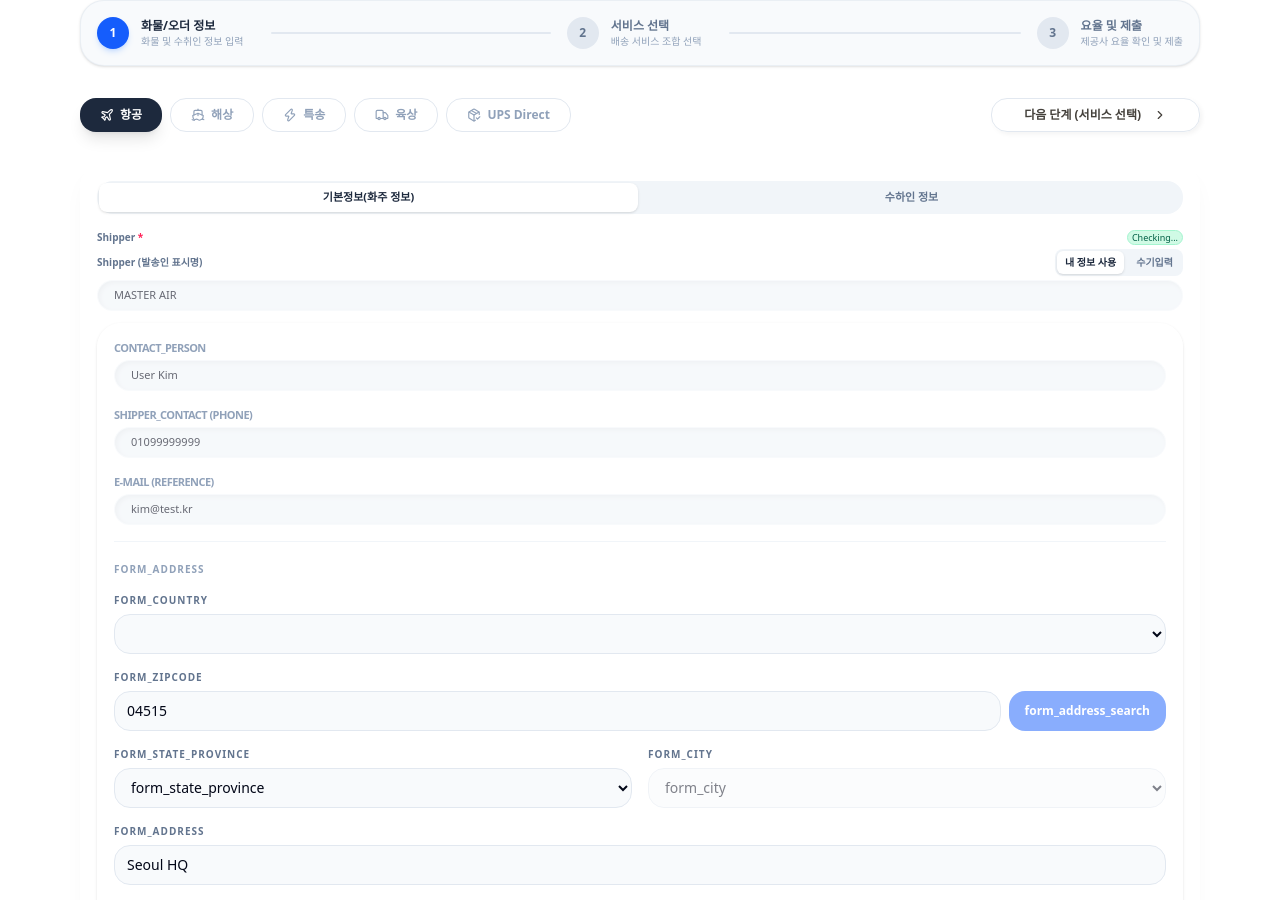
it: TASK-B-296: 화주 정보 UI 단순화 (Issue #1102) › TC-296-03: "내 정보 사용" 재전환 → affiliation 파생값 전체 복원 + 비활성화
Expected: the field named "shipper_name" below "(발송인 표시명)" is shown, left=97, top=280, right=1183, bottom=310
Click the button "수기입력" at (1155, 262), box left=1128, top=251, right=1181, bottom=274
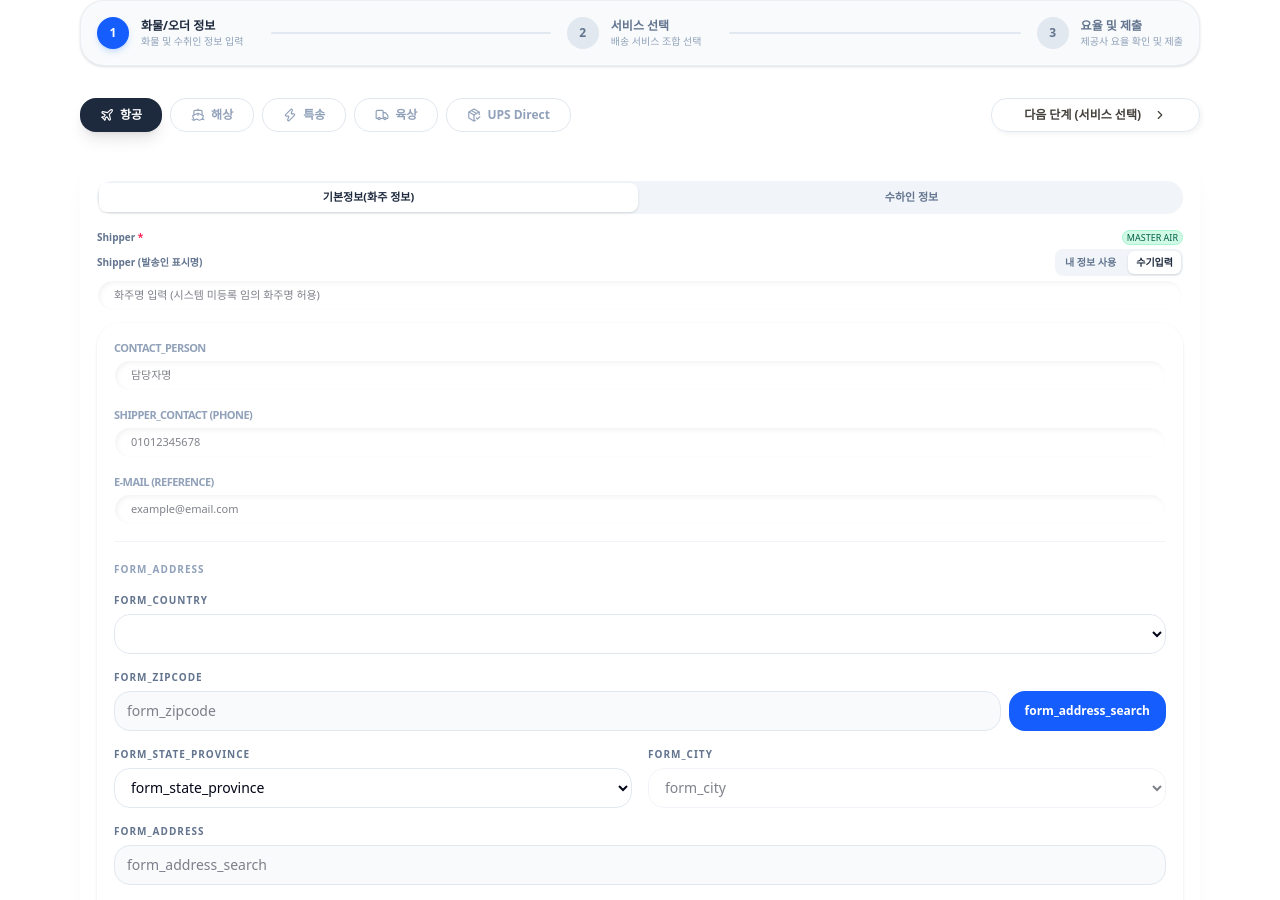
Type "Custom Shipper XYZ" into the field named "shipper_name" at (640, 295), box left=97, top=280, right=1183, bottom=310
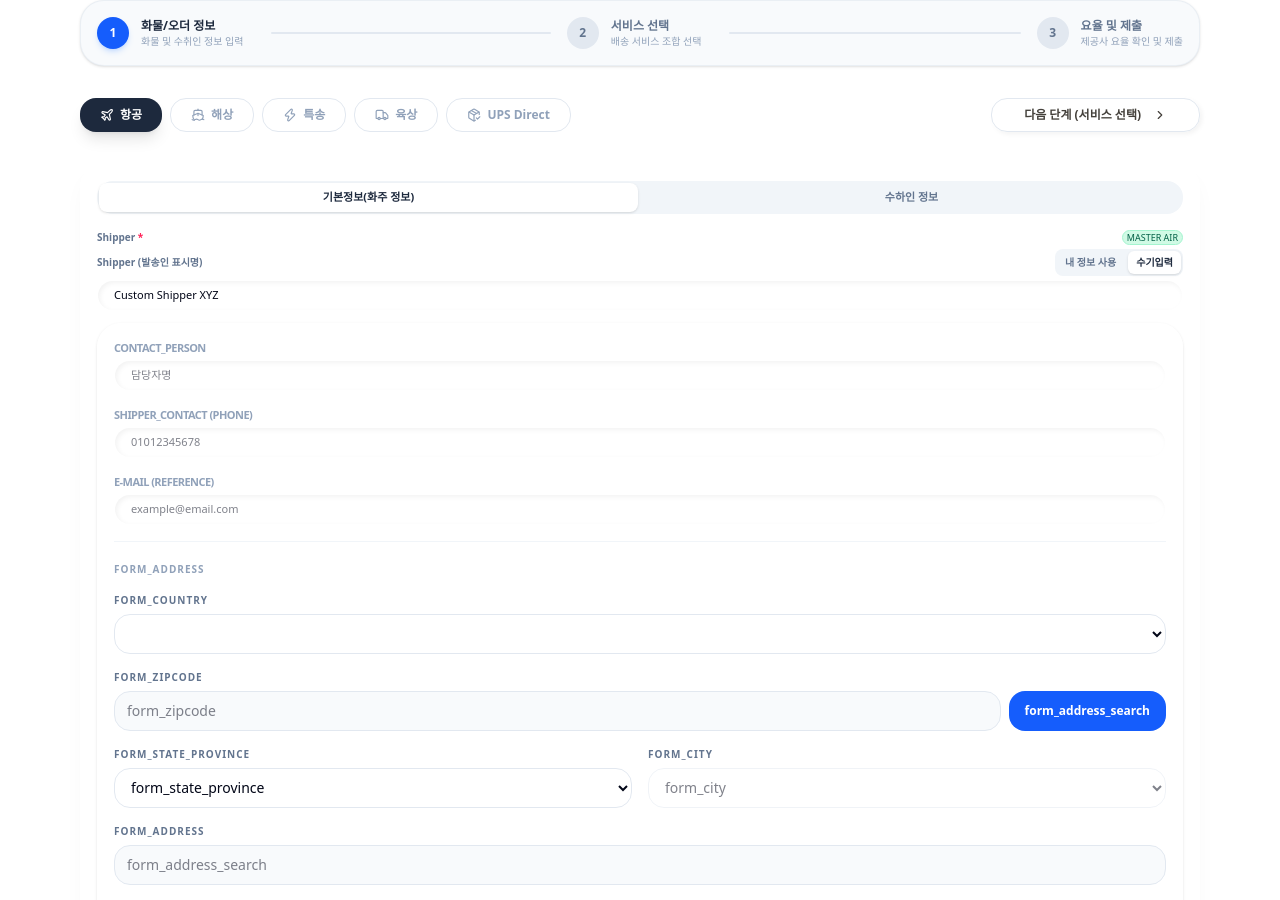
Type "Hand Typed" into the field named "shipper_contact_name" at (640, 375), box left=114, top=360, right=1166, bottom=390
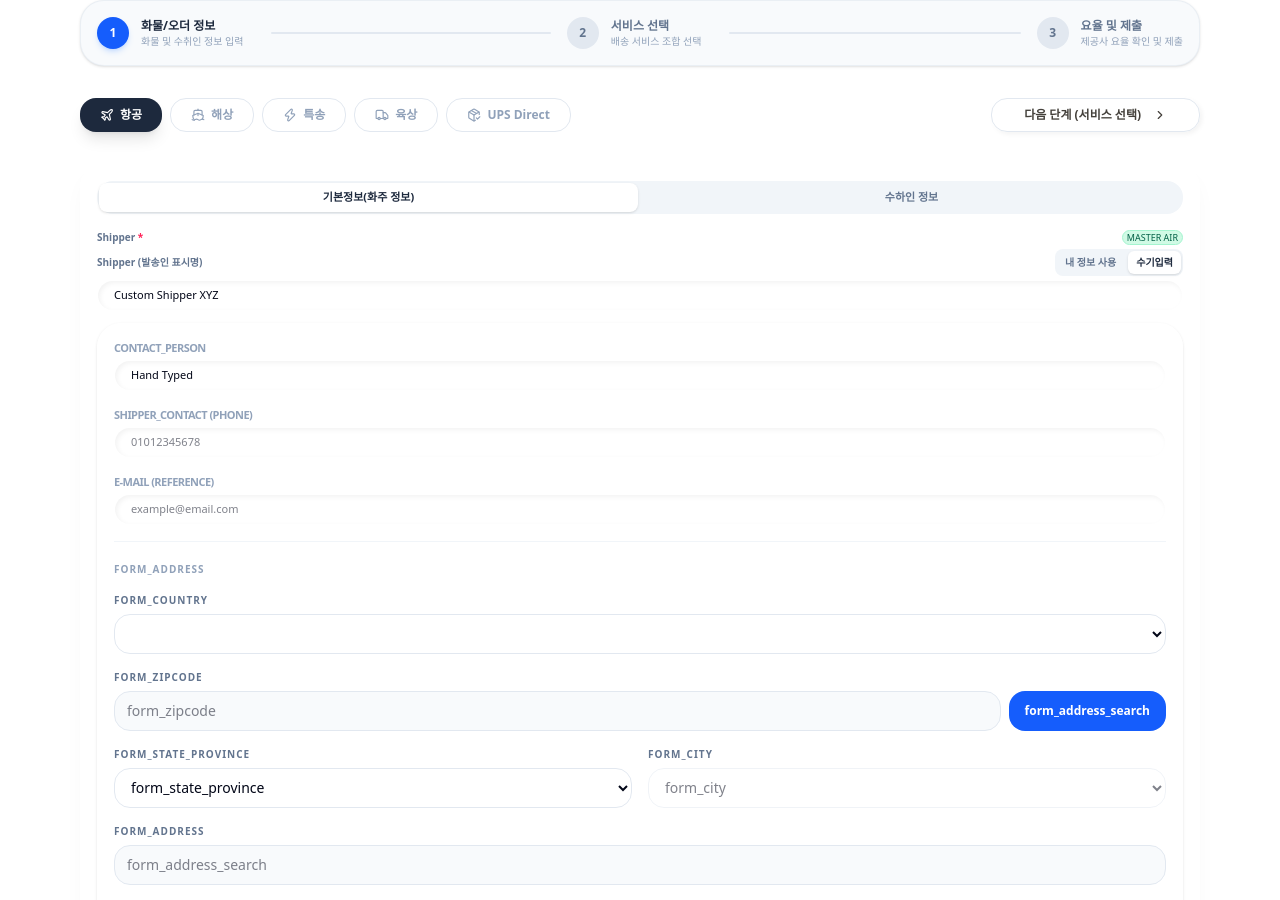
Click the button "내 정보 사용" at (1091, 262), box left=1057, top=251, right=1124, bottom=274
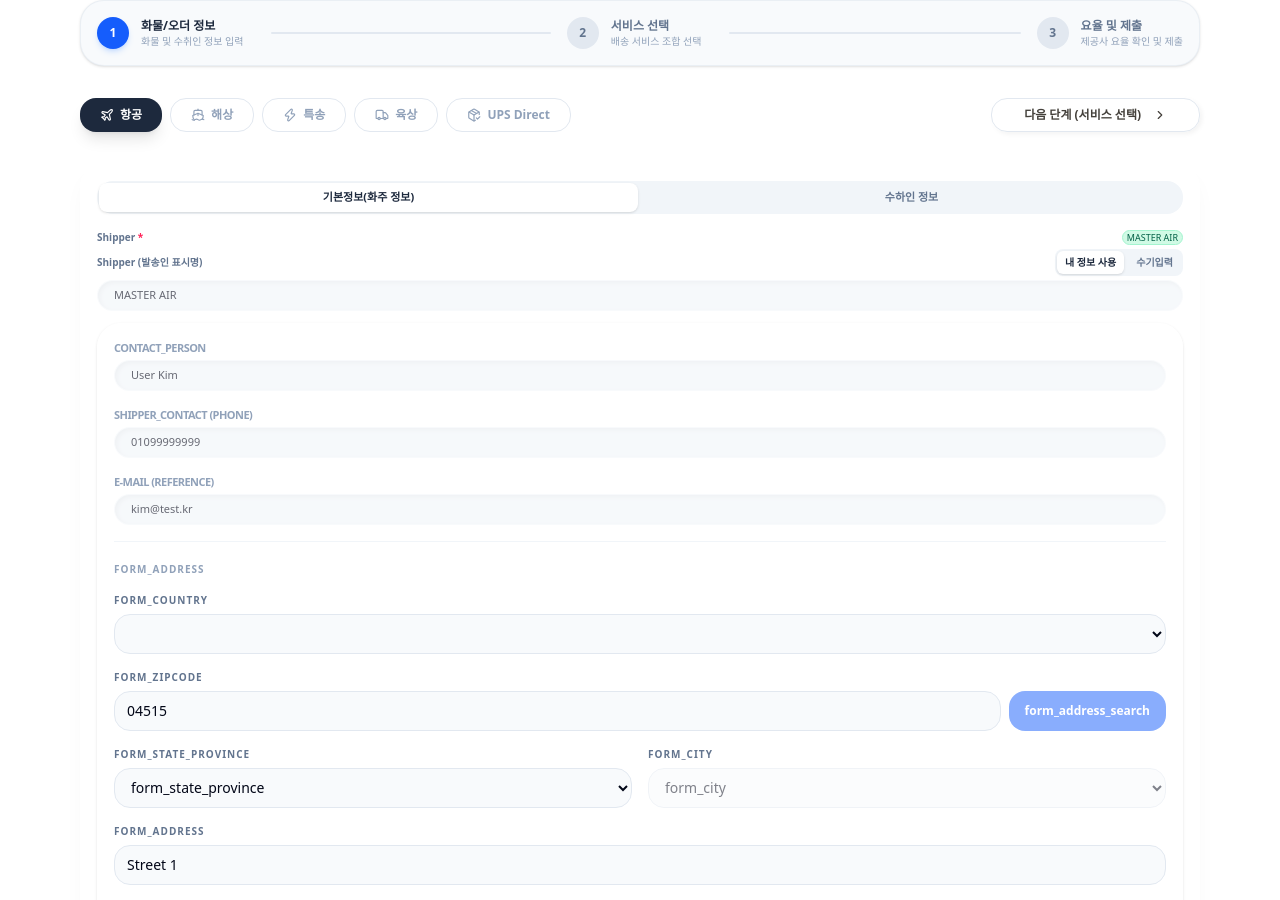
Now the field named "shipper_name" below "(발송인 표시명)" is disabled, box left=97, top=280, right=1183, bottom=310
Now the field named "shipper_name" below "(발송인 표시명)" holds "MASTER AIR", box left=97, top=280, right=1183, bottom=310
Now the field named "shipper_contact_name" below "contact_person" is disabled, box left=114, top=360, right=1166, bottom=390
